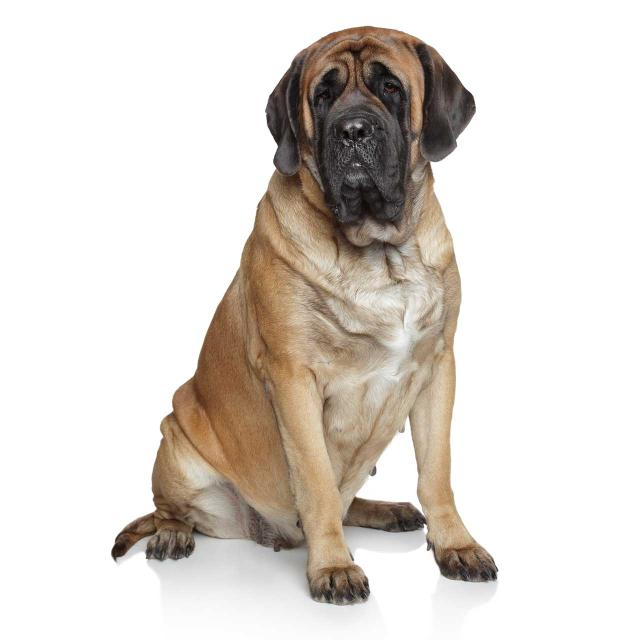mastiff: (112, 26, 500, 607)
